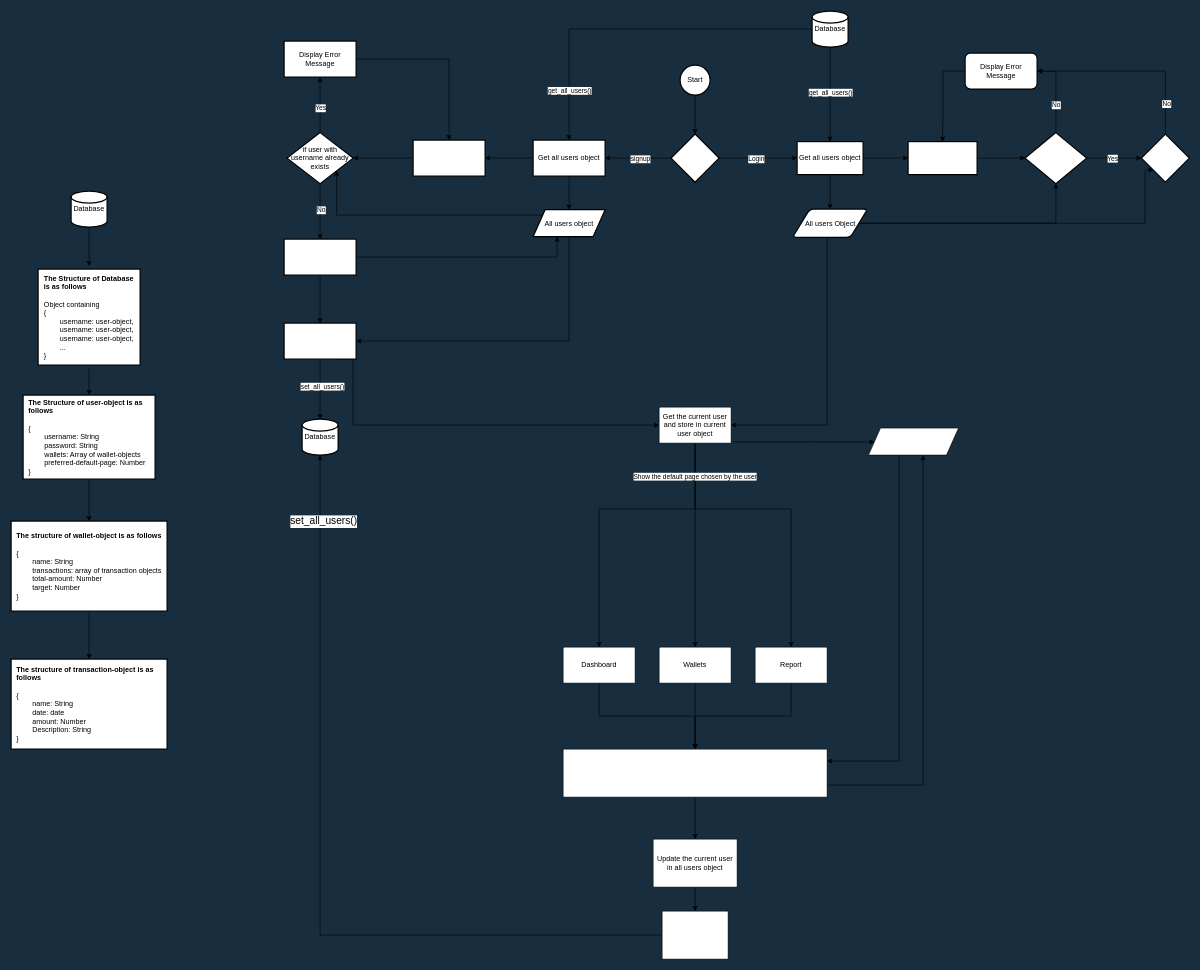
Some shapes in this 1200 by 970 pixel diagram are drawn without their labels. The shapes that lost their labels are listed below. From the top down, each one's centre as x and y in pixels, then its label:
point 448,157: Get new information from the user
point 694,157: Login/ Sign Up
point 942,158: Get Login information from users
point 1055,158: Check if user exists
point 1165,157: Check if password is correct
point 319,256: Add new user to all user object
point 319,340: Store all users object to database
point 913,441: Current User Object
point 694,772: Work with the current user object
point 695,934: Store the all users object in the database
